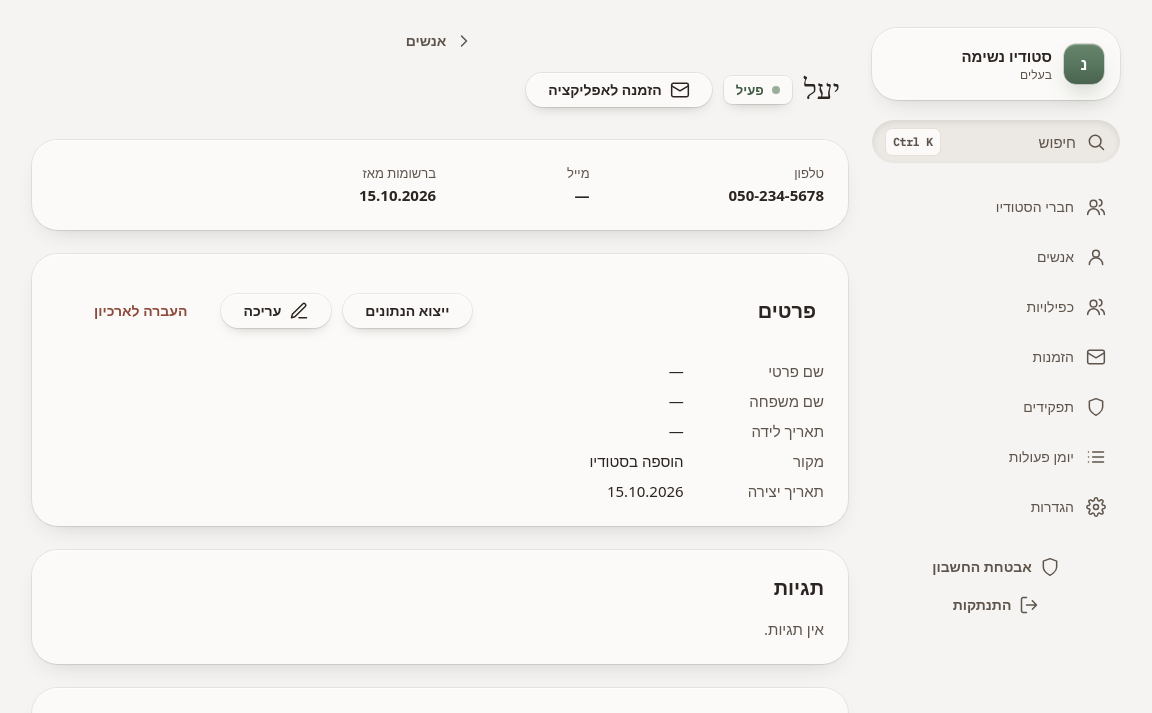
Test case: inviting a recorded person to the app › shows the API's invalid email on the field
Click the button "הזמנה לאפליקציה". click: x=619, y=90
box: left=526, top=73, right=712, bottom=107
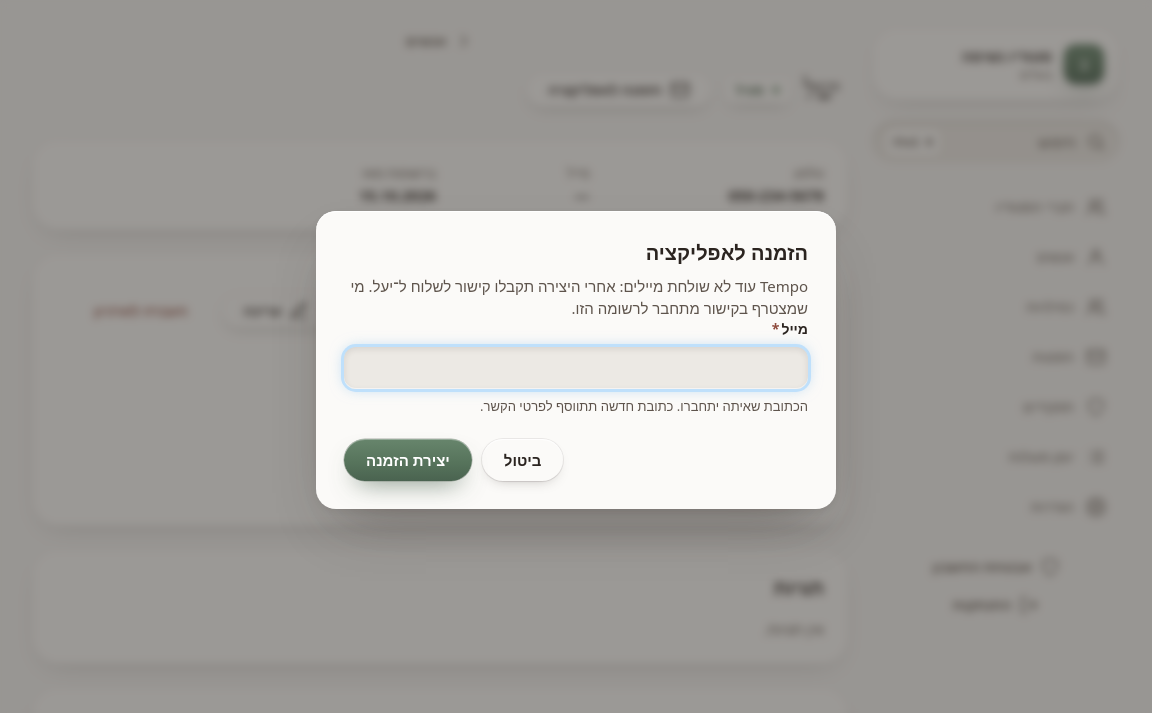
Type "yael@example.c0m" into the field labelled "מייל*". click: x=576, y=368
box: left=344, top=347, right=808, bottom=389
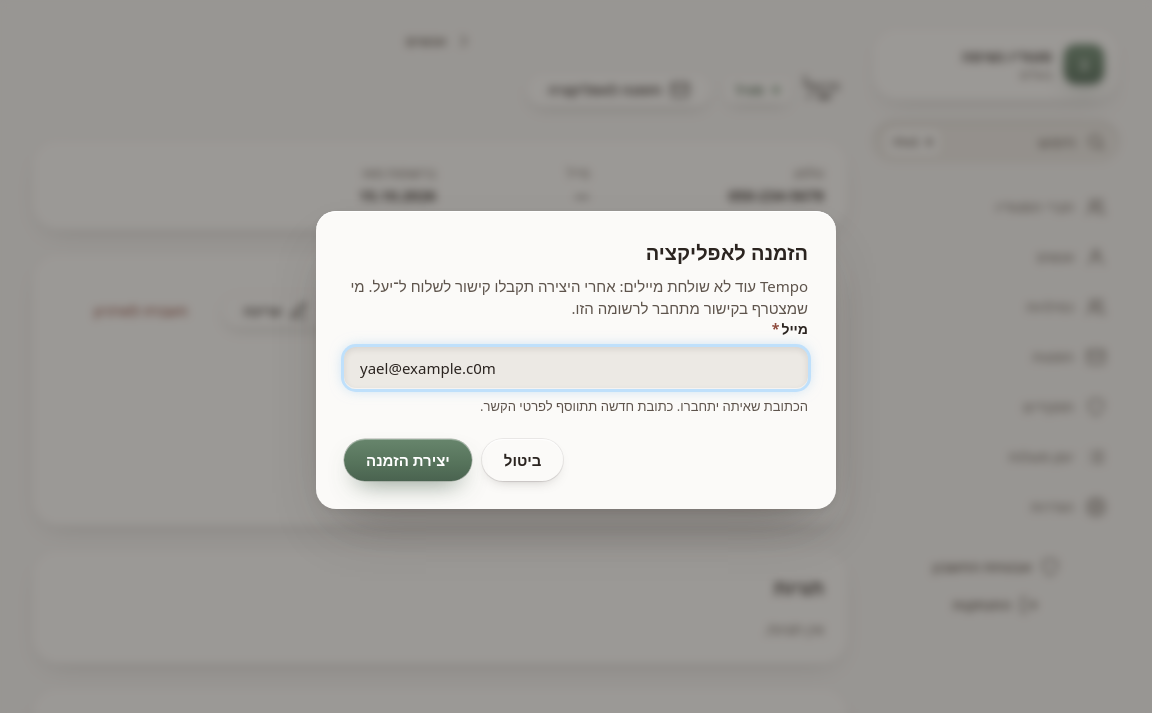
Click the button "יצירת הזמנה". click: x=408, y=460
box: left=344, top=439, right=472, bottom=481
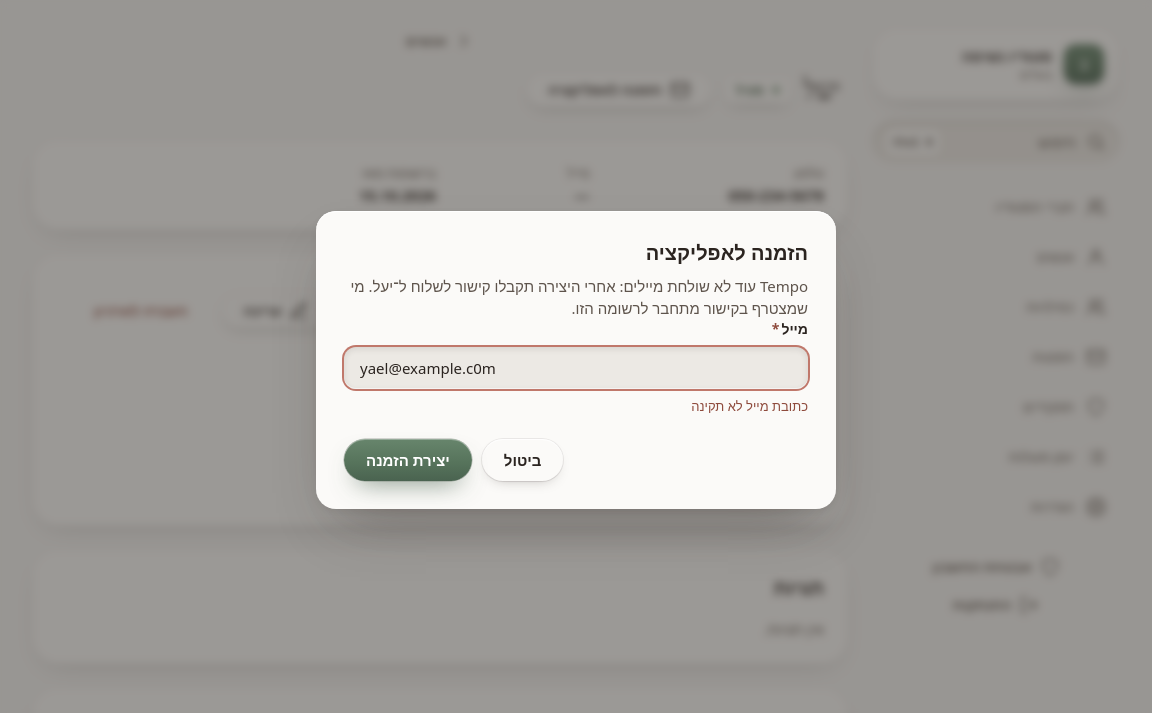
Expected: the text "כתובת מייל לא תקינה" is shown, left=691, top=397, right=808, bottom=415
